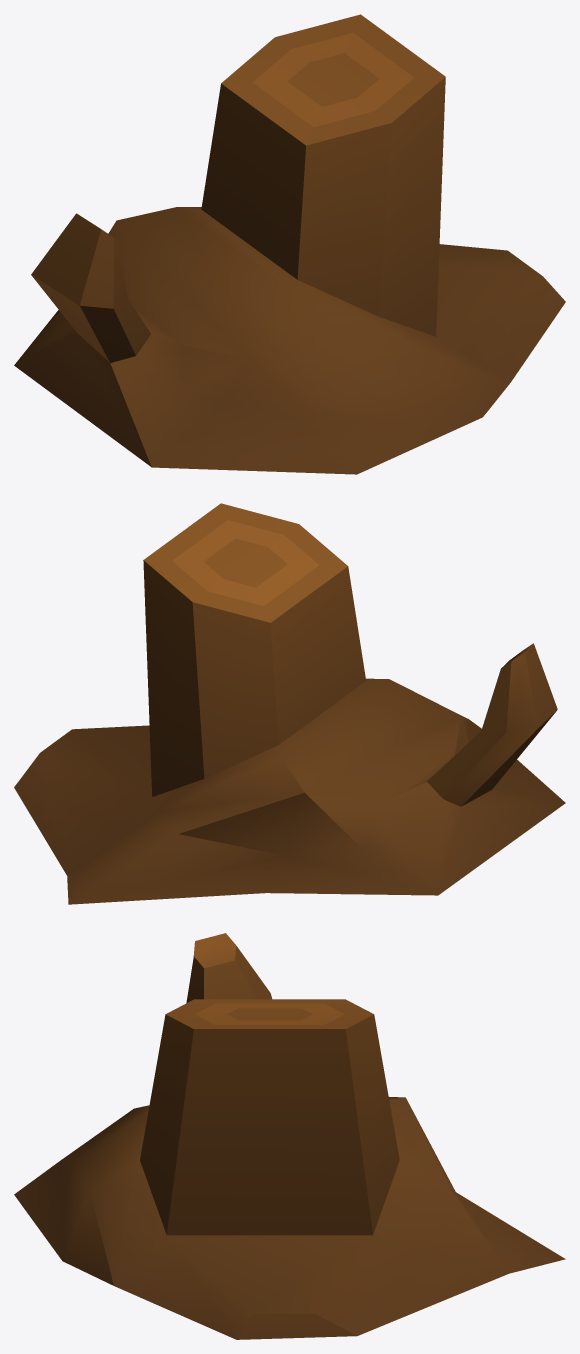
Rendered from Trunk_B_1.fbx.
The picture shows the model from 3 angles, top to bottom: view 1: azimuth 30°, elevation 25°; view 2: azimuth 150°, elevation 25°; view 3: azimuth 270°, elevation 25°; orthographic projection. The views are drawn at different scales.
Parts seen in each view (by area): view 1: Trunk_B_1; view 2: Trunk_B_1; view 3: Trunk_B_1.
Boxes of the visible parts, x1,y1,x2,y2 form: Trunk_B_1: (14, 14, 565, 474); Trunk_B_1: (14, 503, 565, 904); Trunk_B_1: (14, 933, 565, 1339).
Bounding box in the file's own units: 85.01 × 42.94 × 86.62.
